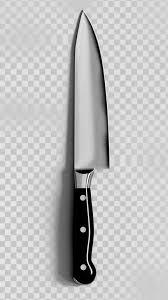Knife: (70, 9, 109, 284)
